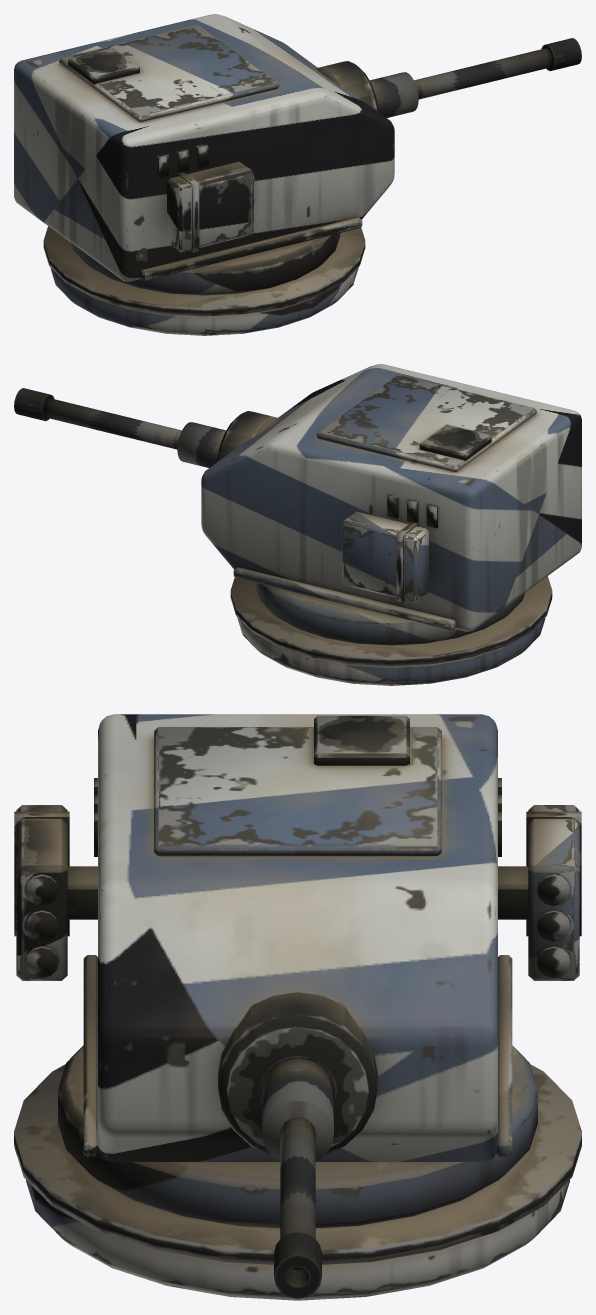
The model's file is turret_grach_t1_dazzle.glb.
The picture shows the model from 3 angles, top to bottom: view 1: azimuth 30°, elevation 25°; view 2: azimuth 150°, elevation 25°; view 3: azimuth 270°, elevation 25°; orthographic projection. The views are drawn at different scales.
Parts seen in each view (by area): view 1: turret_light_t1, guns, pods; view 2: turret_light_t1, guns, pods; view 3: turret_light_t1, guns, pods.
Part boxes in pixels (<box>): turret_light_t1: <box>14,14,394,335</box>; guns: <box>316,38,581,117</box>; pods: <box>167,161,254,252</box>; turret_light_t1: <box>201,364,581,685</box>; guns: <box>14,388,279,467</box>; pods: <box>341,511,428,602</box>; turret_light_t1: <box>14,714,581,1300</box>; guns: <box>218,992,377,1298</box>; pods: <box>14,805,581,980</box>.
Size of the model in its own units: 1.14 by 0.4664 by 0.6248.
Materials: 3 (3 with a texture image).
